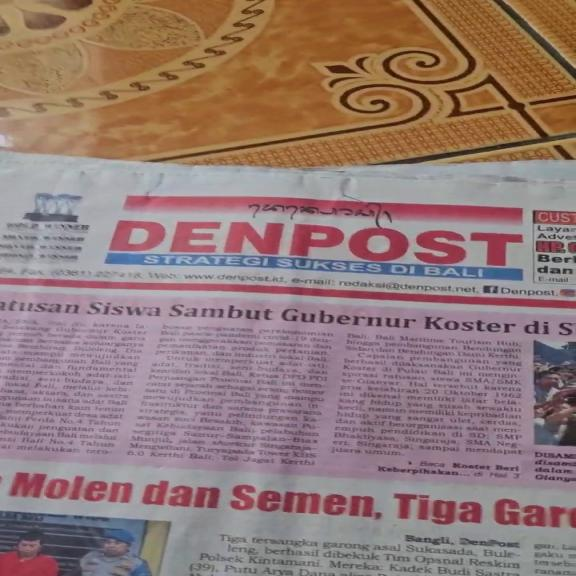Kertas: (1, 151, 567, 571)
